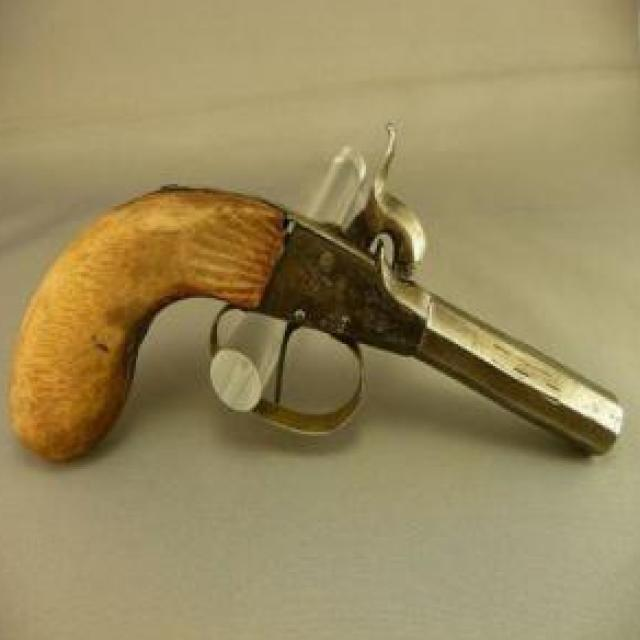pistol: (9, 118, 628, 474)
